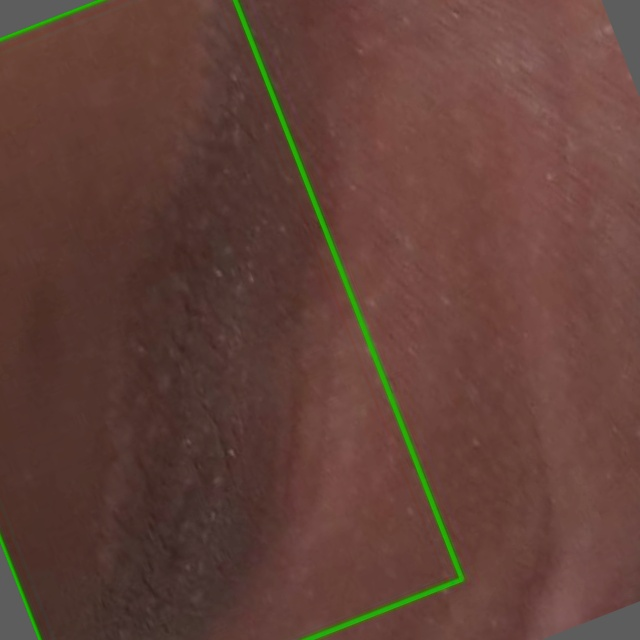Contact Dermatitis: (0, 0, 462, 639)
